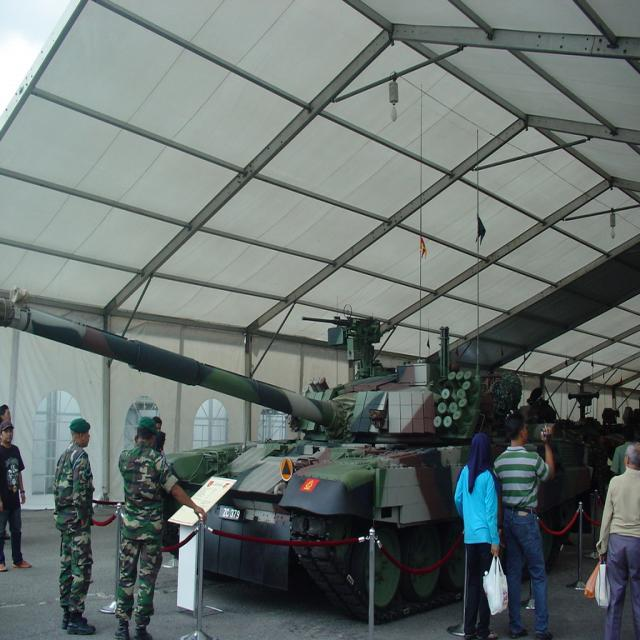tank: (0, 84, 594, 618)
